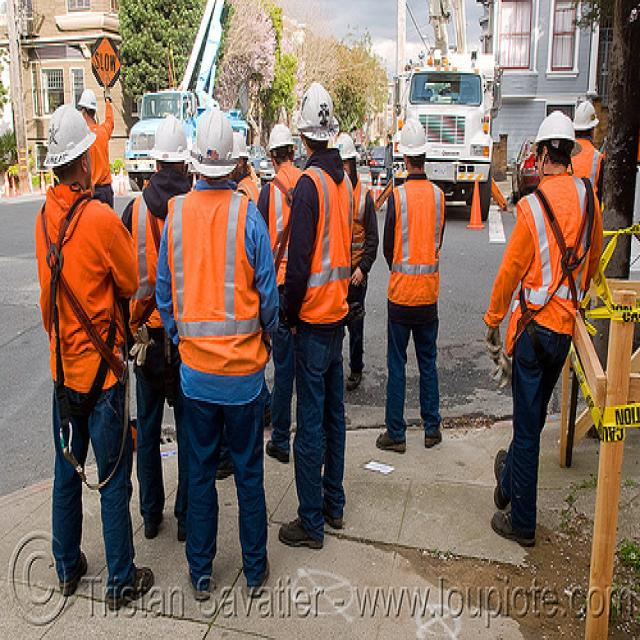Reflective-Jacket: (165, 188, 268, 375), (33, 188, 122, 391), (510, 176, 596, 330), (293, 164, 356, 322), (386, 176, 443, 304)
Safety-Helmet: (40, 99, 96, 168), (191, 105, 239, 174), (294, 77, 342, 142), (528, 103, 578, 150), (147, 111, 191, 164), (398, 113, 430, 158), (571, 93, 600, 132), (74, 83, 101, 115), (268, 121, 294, 152), (336, 128, 358, 160)
